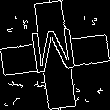M_S: (28, 27, 82, 83)
